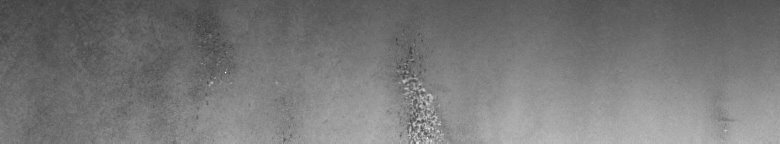hc: (388, 34, 449, 136)
